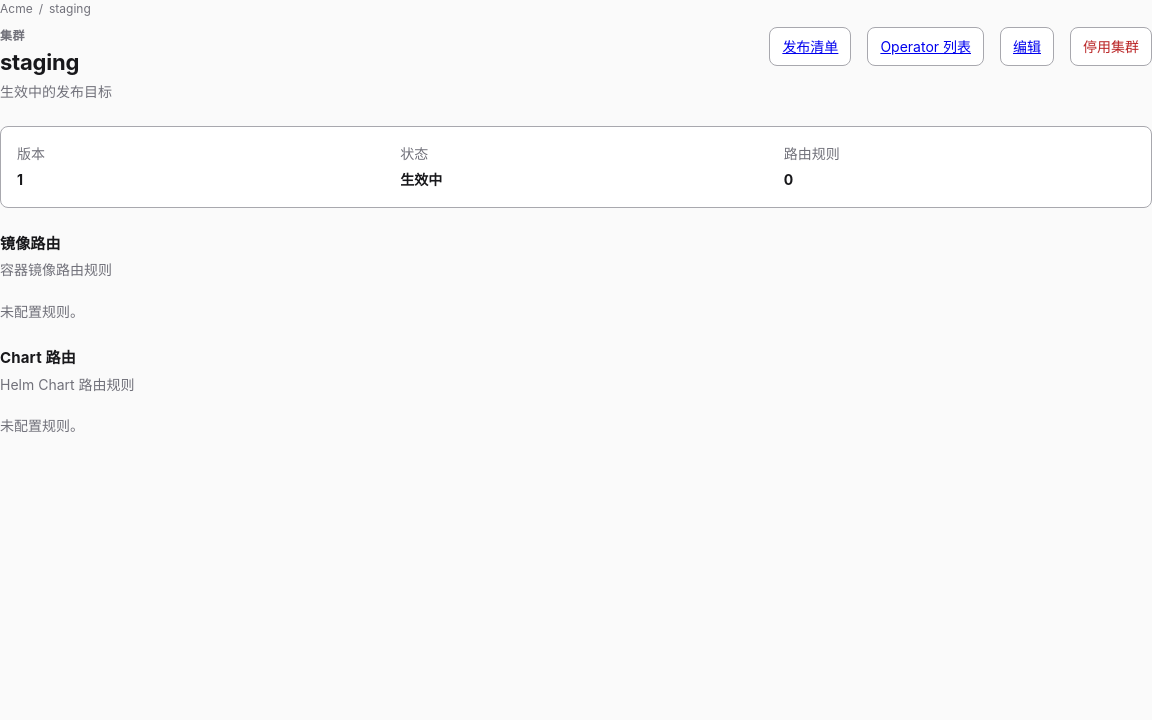
it: ClusterDetailPage disable feedback (W10) › announces a successful disable with a polite success toast
Click the button "停用集群" at point(1111, 46), box [1070,27,1151,66]
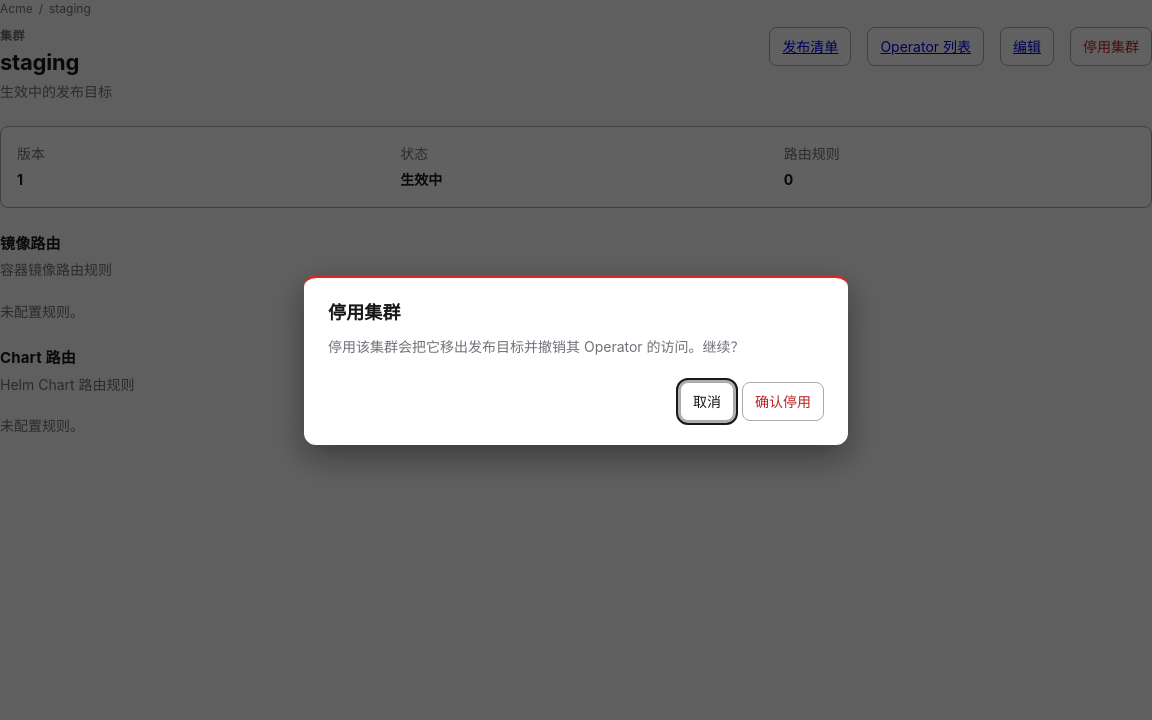
Click the button "确认停用" at point(783, 402), box [742,382,824,422]
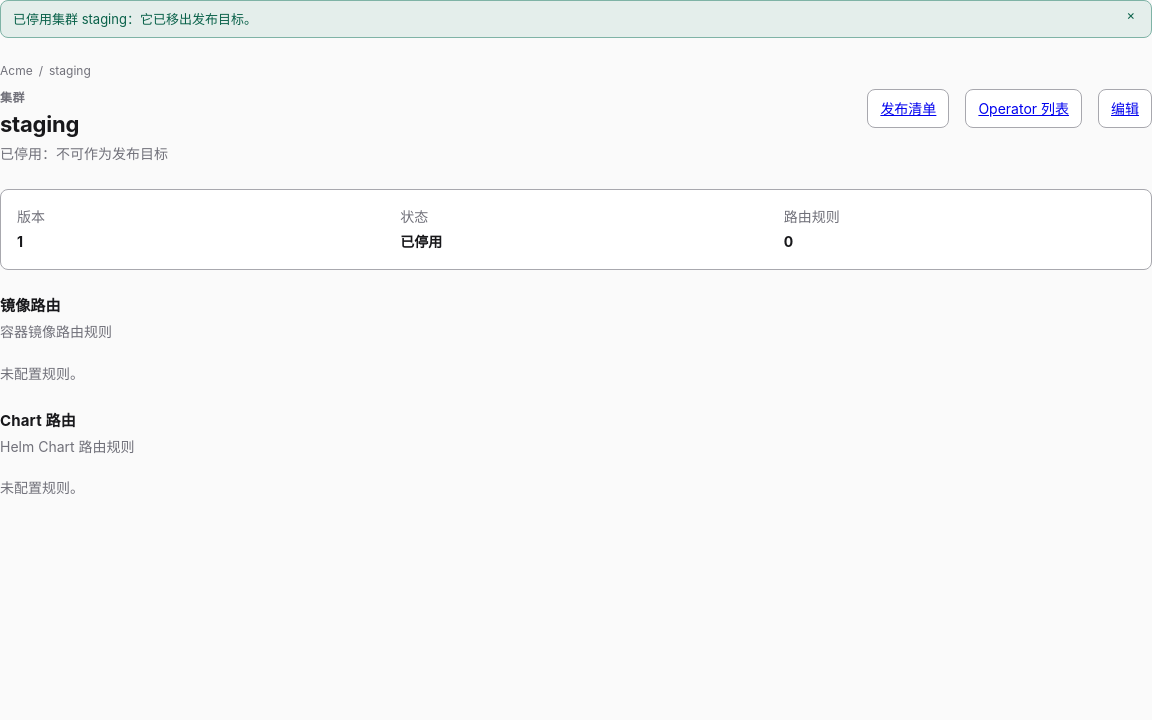
Result: the message with test id "cluster-detail-notice" shows "已停用集群 staging" at [13,11,257,27]
